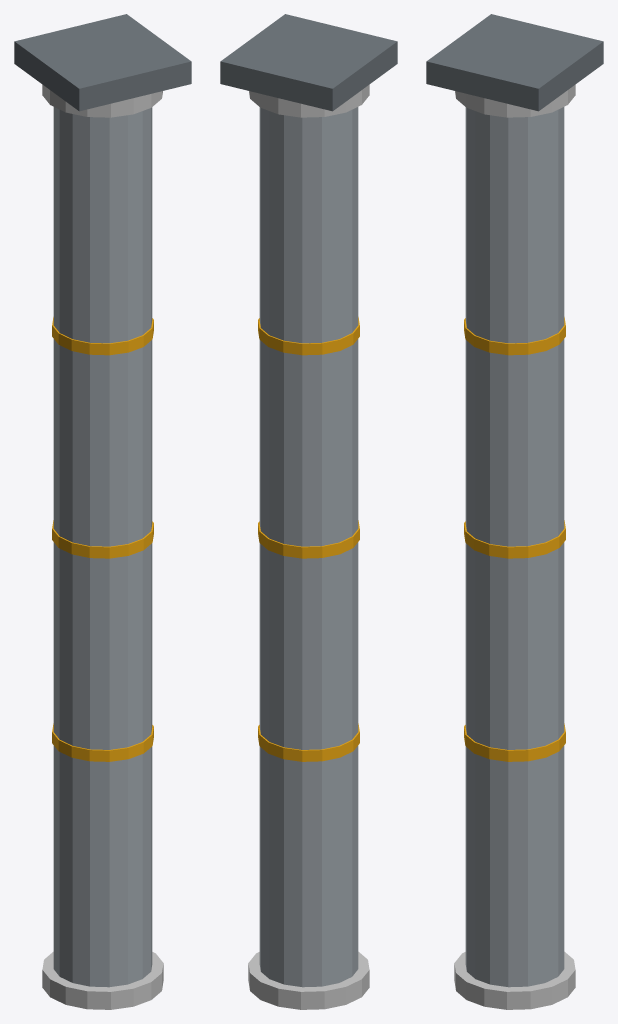
Rendered from body.obj.
3 renders of one model, left to right at view 1: azimuth 30°, elevation 25°; view 2: azimuth 150°, elevation 25°; view 3: azimuth 330°, elevation 25°, orthographic.
Size of the model in its own units: 0.52 by 4.13 by 0.52.
